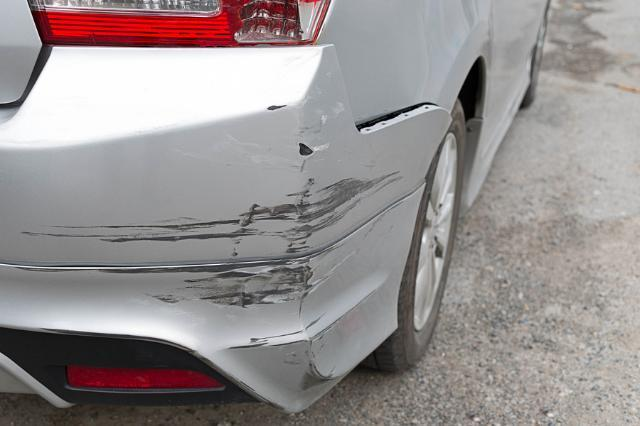Bumper: (3, 86, 415, 372)
